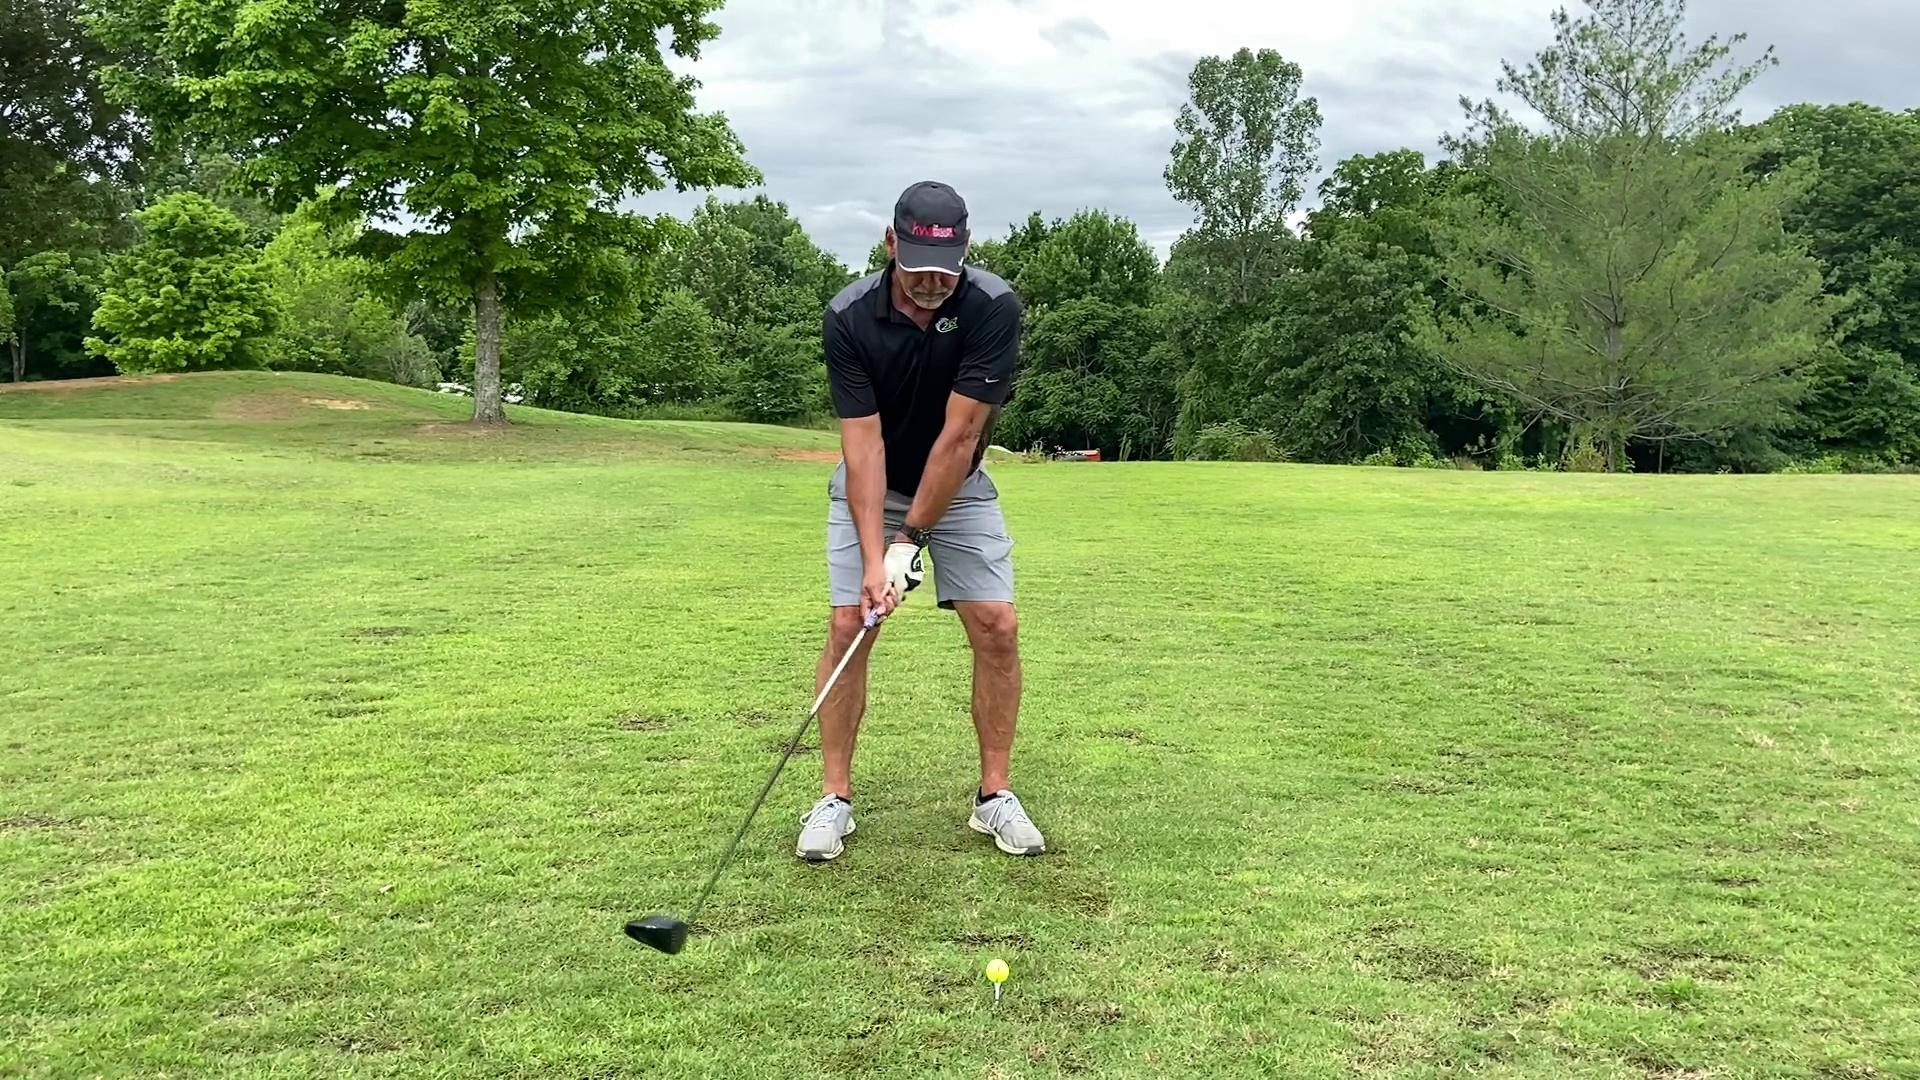ClubHead: (622, 906, 695, 957)
GolfBall: (984, 957, 1011, 984)
